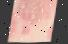plaque psoriasis: (9, 0, 57, 25), (8, 10, 19, 41), (17, 26, 29, 37)
